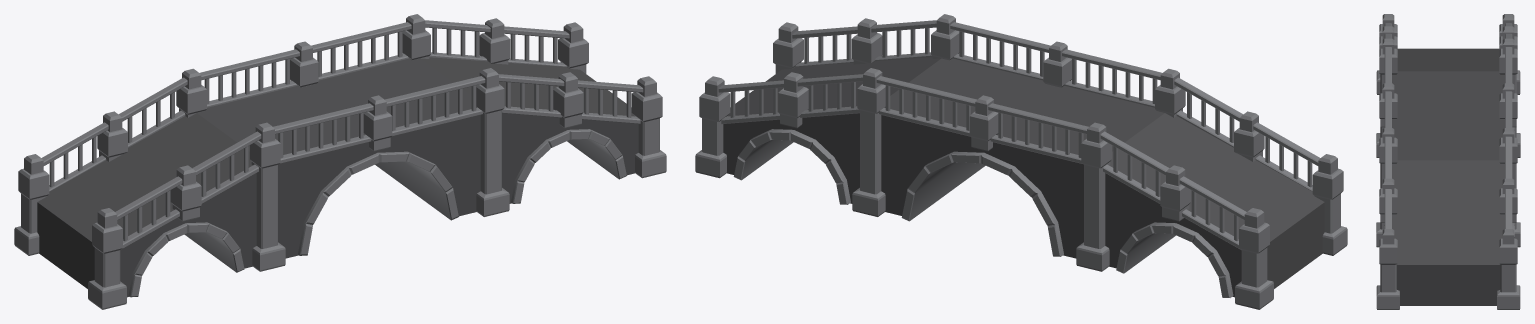
Rendered from bridge_02.glb.
The picture shows the model from 3 angles, left to right: view 1: azimuth 30°, elevation 25°; view 2: azimuth 150°, elevation 25°; view 3: azimuth 270°, elevation 25°; orthographic projection. The views are drawn at different scales.
Visible parts, largest first — view 1: bridge_02; view 2: bridge_02; view 3: bridge_02.
Part boxes in pixels (x1,y1,x2,y2): bridge_02: [14, 14, 666, 309]; bridge_02: [695, 14, 1347, 309]; bridge_02: [1376, 14, 1520, 309].
Size of the model in its own units: 17.67 by 4.15 by 4.8.
Materials: 1 (1 with a texture image).
